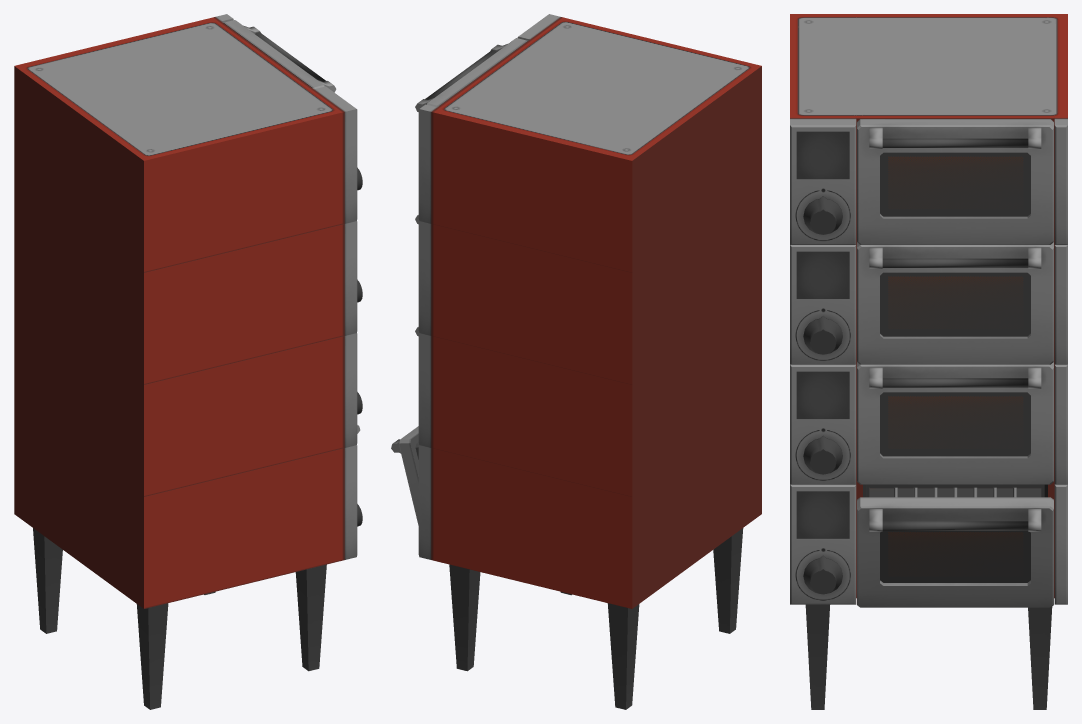
Rendered from ovenopen1.gltf.
The picture shows the model from 3 angles, left to right: view 1: azimuth 30°, elevation 25°; view 2: azimuth 150°, elevation 25°; view 3: azimuth 270°, elevation 25°; orthographic projection. The views are drawn at different scales.
Visible parts, largest first — view 1: Cube; view 2: Cube; view 3: Cube, Cube.003, Cube.006, Cube.012, Cube.009.
Part boxes in pixels (left/top/right/bottom): Cube: left=14, top=14, right=360, bottom=709; Cube: left=391, top=14, right=761, bottom=709; Cube: left=790, top=14, right=1067, bottom=709; Cube.003: left=803, top=435, right=842, bottom=474; Cube.006: left=803, top=316, right=842, bottom=354; Cube.012: left=803, top=555, right=842, bottom=594; Cube.009: left=803, top=196, right=842, bottom=234.
Size of the model in its own units: 2.37 by 5 by 2.1.
